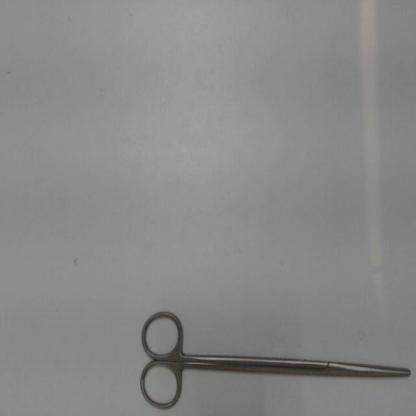9 Metzenbaum Scissors: (136, 308, 412, 413)
